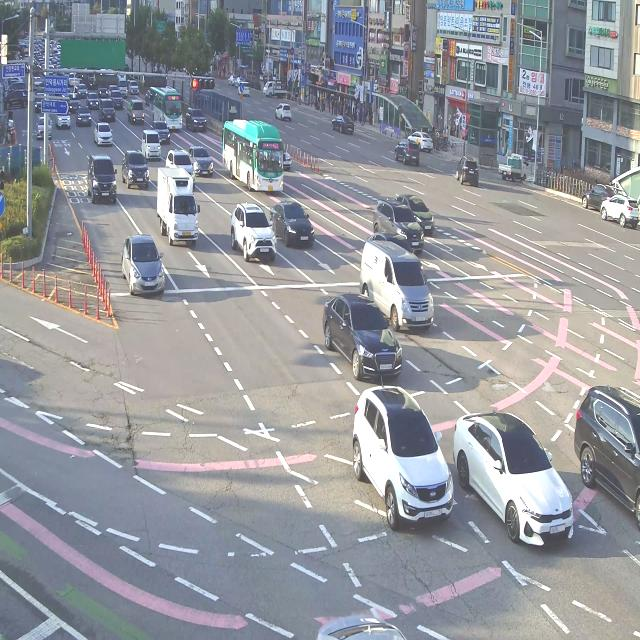Bus: (218, 112, 286, 200), (145, 80, 186, 136)
Car: (452, 400, 582, 554), (342, 377, 461, 542), (571, 367, 640, 527), (311, 287, 402, 385), (358, 234, 440, 334), (221, 196, 278, 272), (116, 224, 164, 312), (368, 192, 424, 256), (262, 192, 316, 250), (79, 146, 120, 214), (600, 190, 640, 235), (119, 144, 152, 192), (574, 178, 612, 212), (452, 152, 484, 192), (166, 147, 195, 186), (187, 143, 214, 179), (184, 103, 210, 137), (139, 126, 161, 164), (394, 138, 421, 166), (3, 88, 31, 114), (408, 123, 434, 150), (330, 112, 358, 137), (93, 120, 116, 148), (96, 94, 118, 122), (35, 110, 52, 146), (151, 116, 172, 144), (74, 102, 92, 132), (273, 99, 293, 125), (54, 108, 71, 134), (86, 90, 100, 112), (66, 90, 80, 111), (128, 77, 142, 97), (112, 87, 124, 110), (238, 80, 250, 98), (32, 95, 44, 111), (78, 79, 88, 98), (97, 82, 108, 98), (108, 82, 118, 98), (234, 74, 246, 86), (228, 73, 235, 85)
Motorcycle: (6, 111, 17, 150)
Truck: (155, 165, 202, 254), (498, 143, 534, 185), (262, 80, 290, 100), (126, 96, 144, 125), (118, 72, 128, 97)
